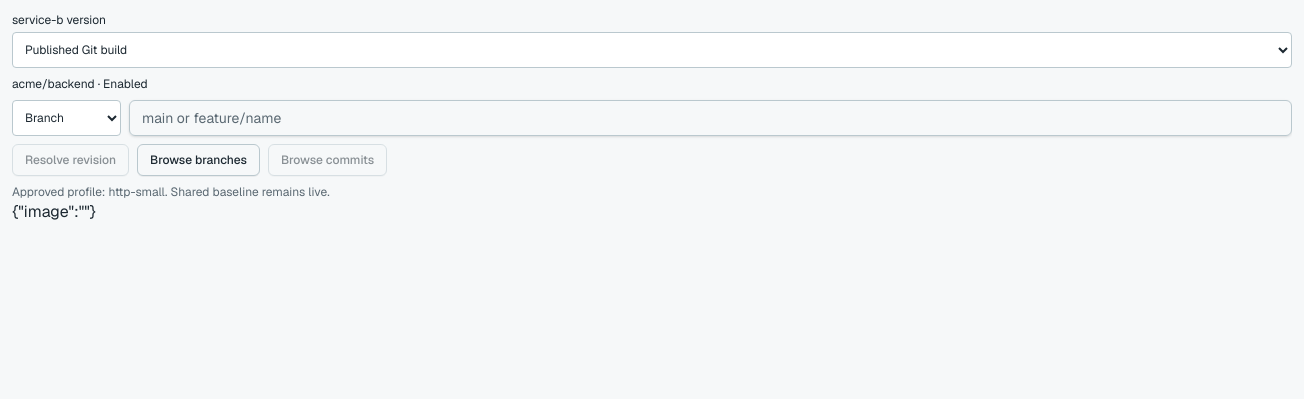
it: published build selection › shows missing builds without substituting an older image
Check: the text "acme/backend · Enabled" is shown, box [12,76,148,92]
Type "main" into the field named "service-b Git revision" at (710, 118), box [129,100,1292,136]
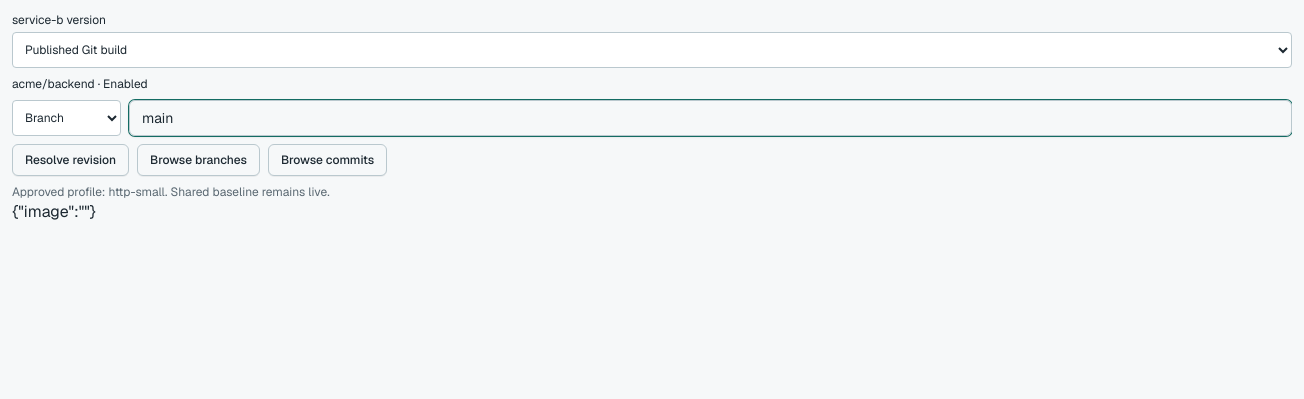
Click the button "Resolve revision" at (71, 160), box [12,144,129,176]
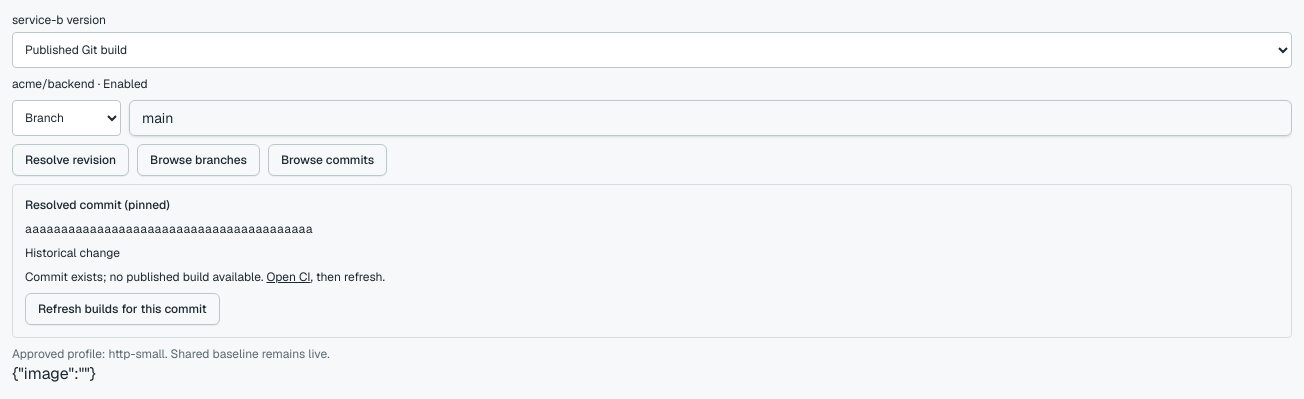
Check: the text "Commit exists; no published build available" is shown, box [25,269,263,285]
